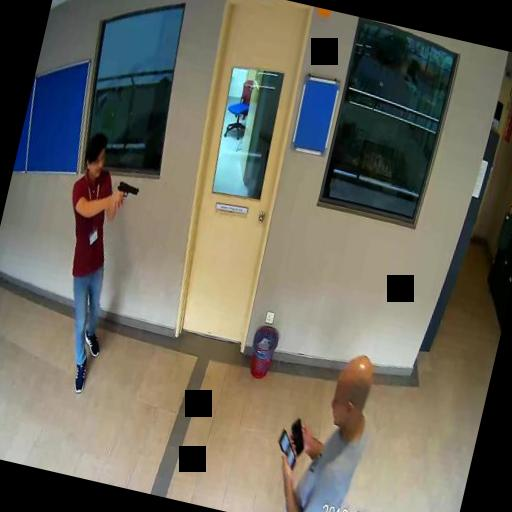Handgun: (112, 178, 140, 207)
